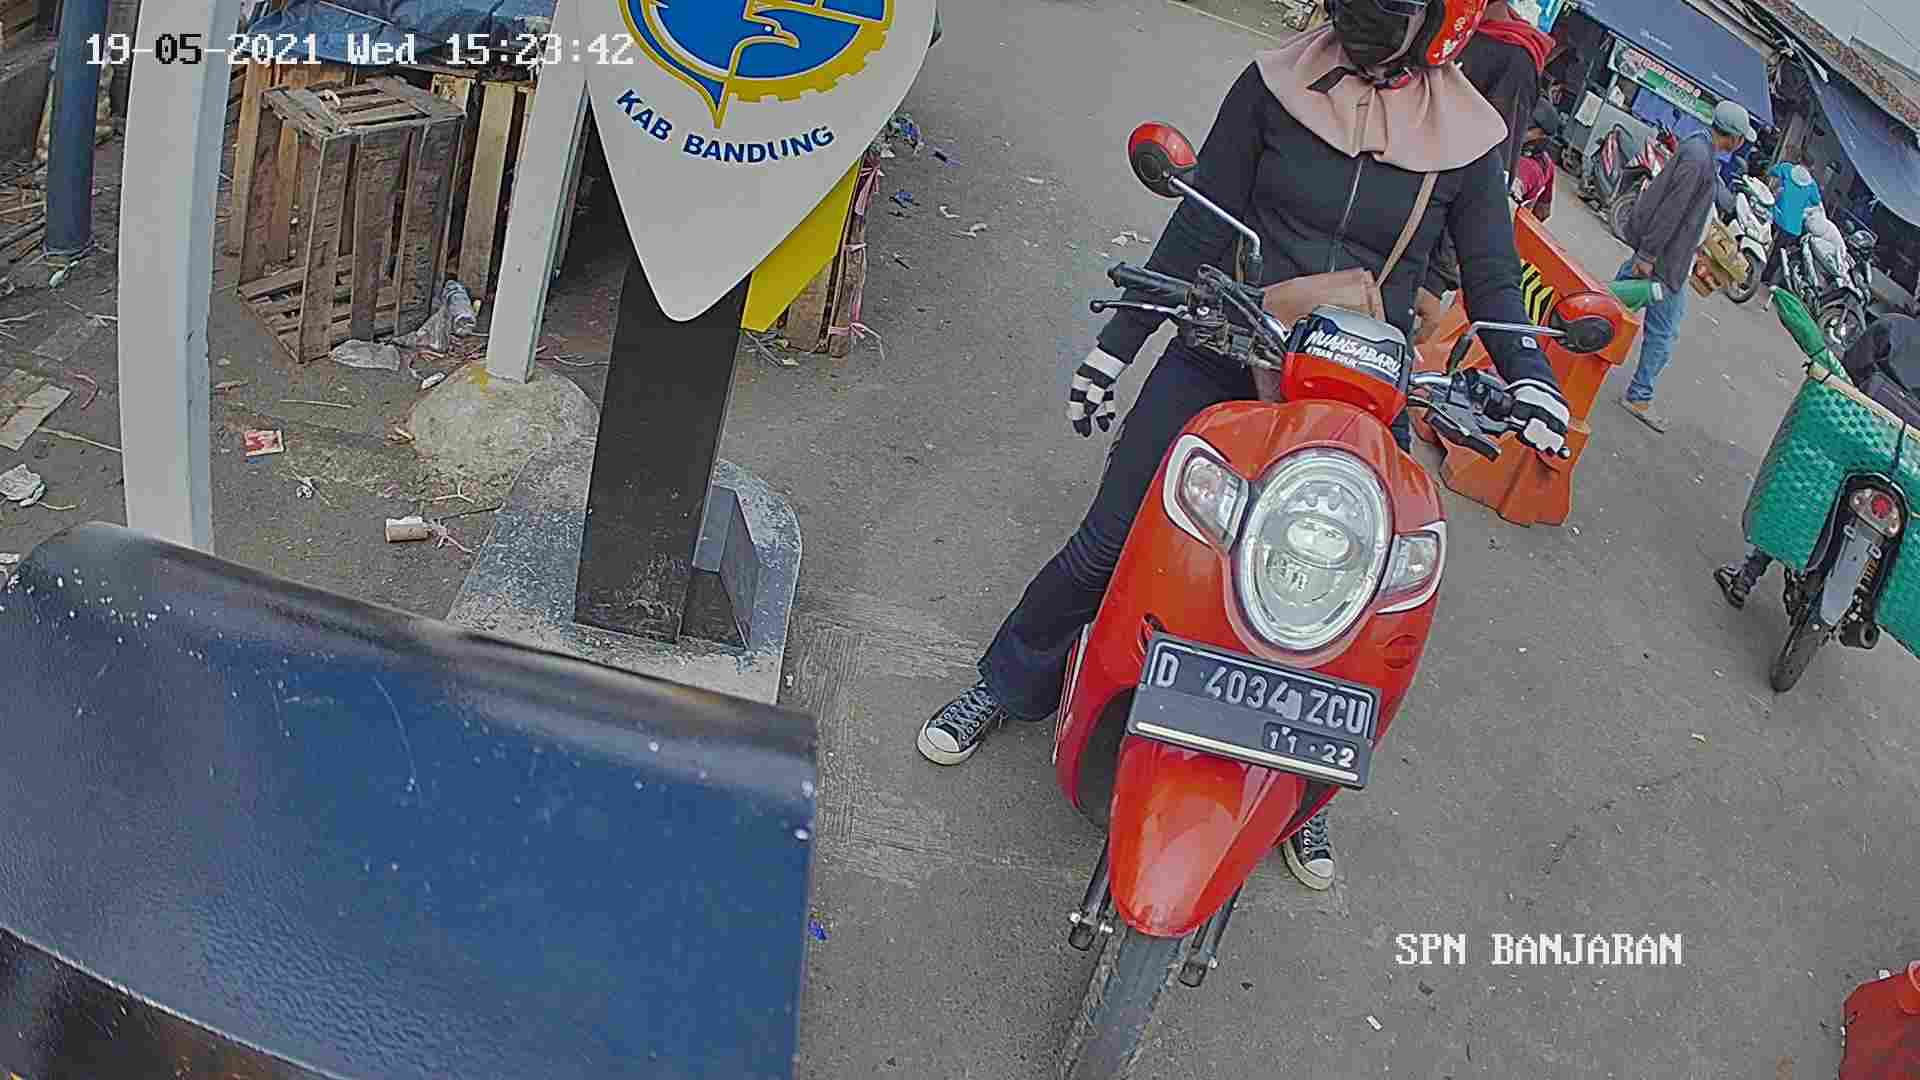motor: (1043, 233, 1435, 1080)
